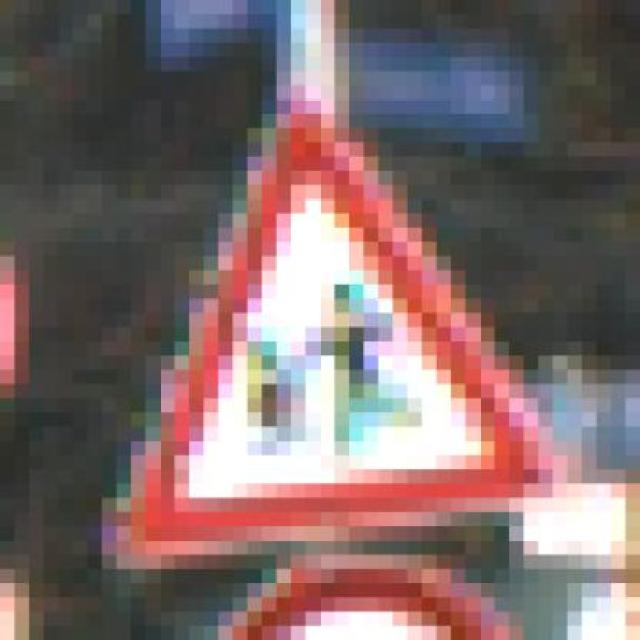Beware of children: (87, 86, 567, 554)
